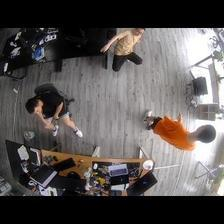fall: (101, 26, 148, 71)
normal: (143, 105, 215, 152), (26, 86, 82, 140)
